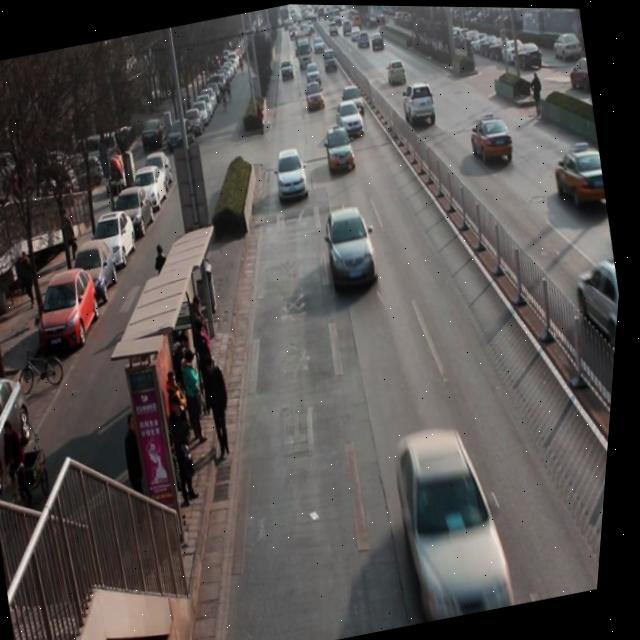car: (384, 411, 534, 624), (320, 200, 391, 296), (572, 253, 626, 366), (548, 137, 613, 212), (467, 107, 524, 171), (272, 144, 317, 204), (399, 78, 444, 130), (322, 122, 362, 176), (333, 95, 370, 141), (341, 82, 370, 115), (303, 80, 329, 109), (387, 57, 411, 87)
